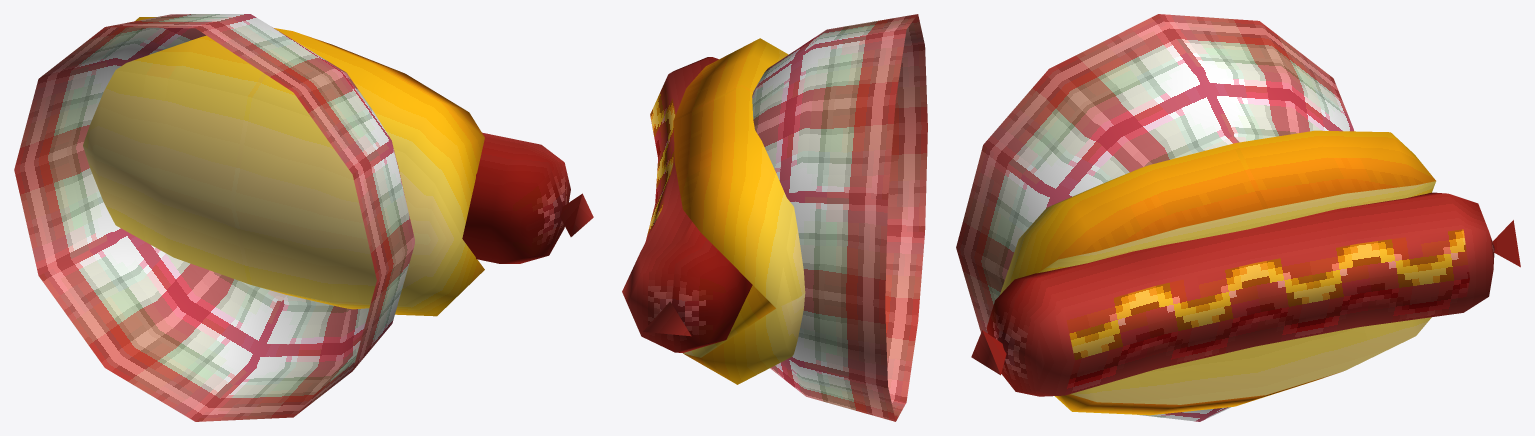
File: cap_hat_hotdog.dae
3 renders of one model, left to right at view 1: azimuth 30°, elevation 25°; view 2: azimuth 150°, elevation 25°; view 3: azimuth 270°, elevation 25°, orthographic. The views are drawn at different scales.
Parts seen in each view (by area): view 1: cap_hat_hotdog; view 2: cap_hat_hotdog; view 3: cap_hat_hotdog.
Part boxes in pixels (box(x1,y1,x2,y2)): cap_hat_hotdog: box(14, 14, 593, 421); cap_hat_hotdog: box(622, 14, 927, 421); cap_hat_hotdog: box(956, 14, 1520, 421).
Bounding box in the file's own units: 22.38 × 21.14 × 27.71.
Materials: 2 (2 with a texture image).
